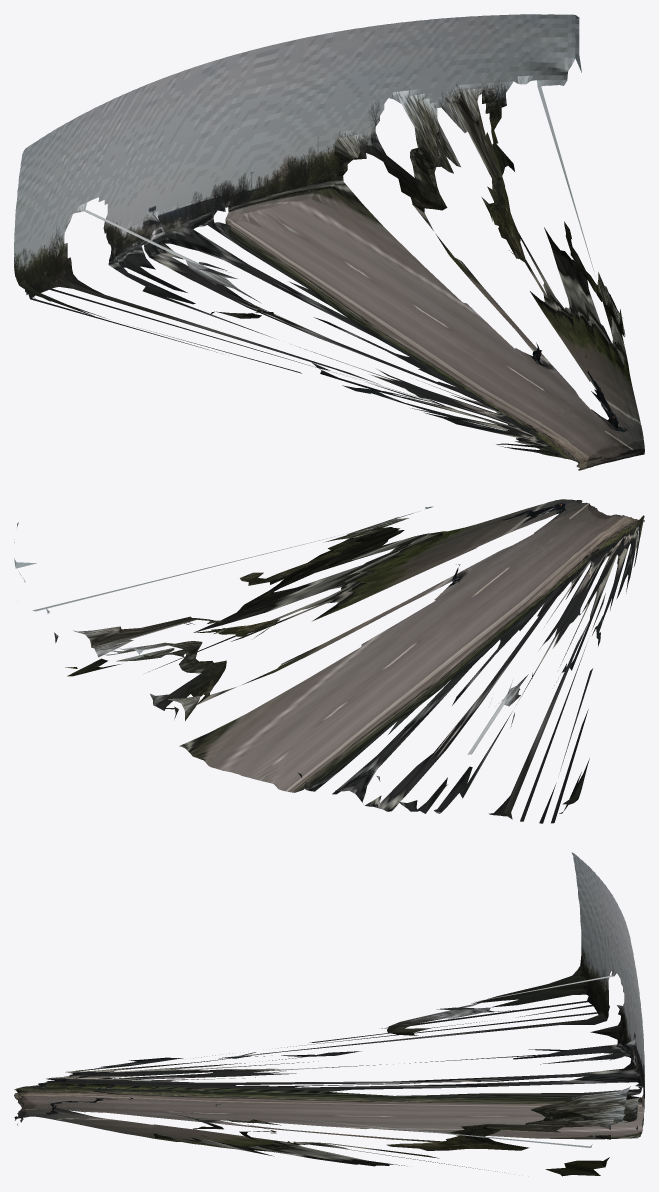
3 renders of one model, top to bottom at view 1: azimuth 30°, elevation 25°; view 2: azimuth 150°, elevation 25°; view 3: azimuth 270°, elevation 25°, orthographic. The views are drawn at different scales.
Parts seen in each view (by area): view 1: defaultobject; view 2: defaultobject; view 3: defaultobject.
Boxes of the visible parts, x1,y1,x2,y2 form: defaultobject: (14, 14, 644, 470); defaultobject: (14, 499, 644, 823); defaultobject: (14, 852, 644, 1176).
Size of the model in its own units: 40.88 by 12.5 by 44.5.
1 material, 1 textured.
